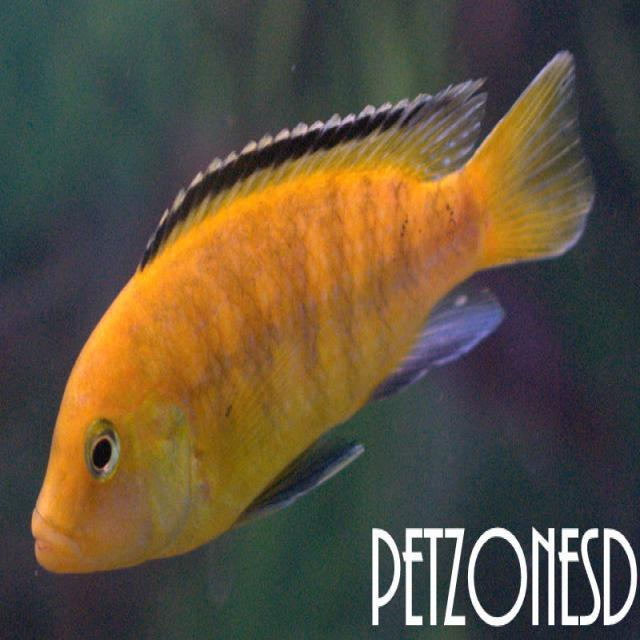YellowCichlid: (23, 39, 600, 610)
